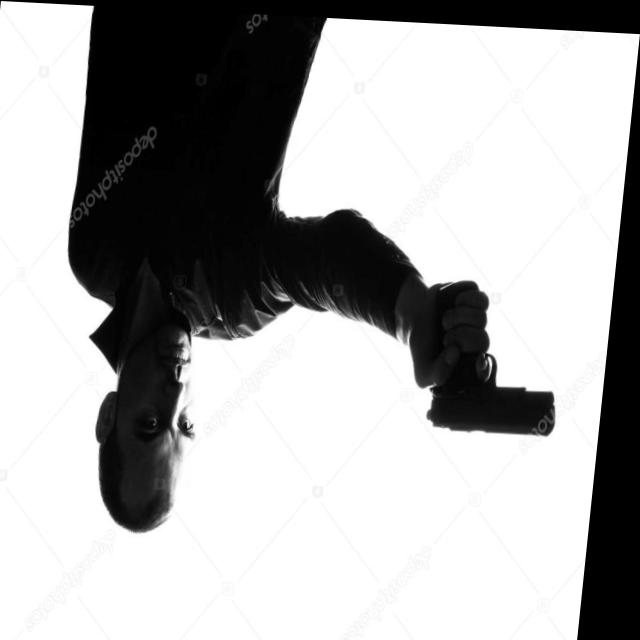handgun: (426, 343, 579, 437)
